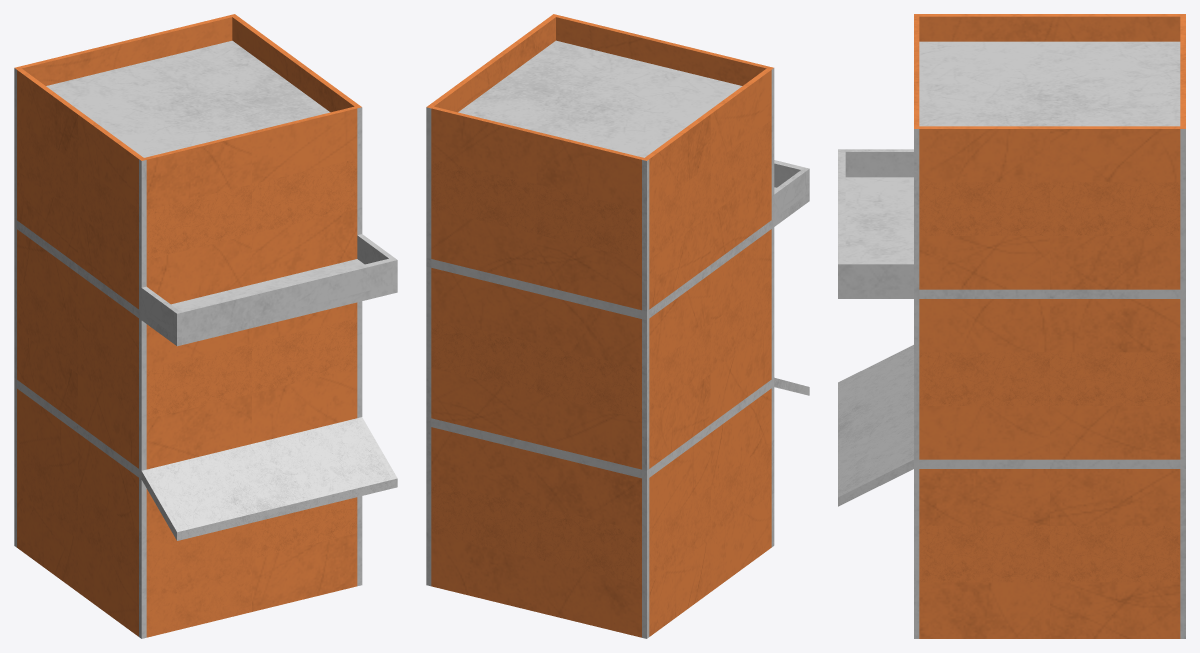
File: house_building_2.fbx
3 renders of one model, left to right at view 1: azimuth 30°, elevation 25°; view 2: azimuth 150°, elevation 25°; view 3: azimuth 270°, elevation 25°, orthographic. The views are drawn at different scales.
Parts seen in each view (by area): view 1: pCube6; view 2: pCube6; view 3: pCube6.
Boxes of the visible parts, x1,y1,x2,y2 form: pCube6: (14,14,397,638); pCube6: (426,14,809,638); pCube6: (838,14,1185,638).
Size of the model in its own units: 9.57 by 19.81 by 12.24.
